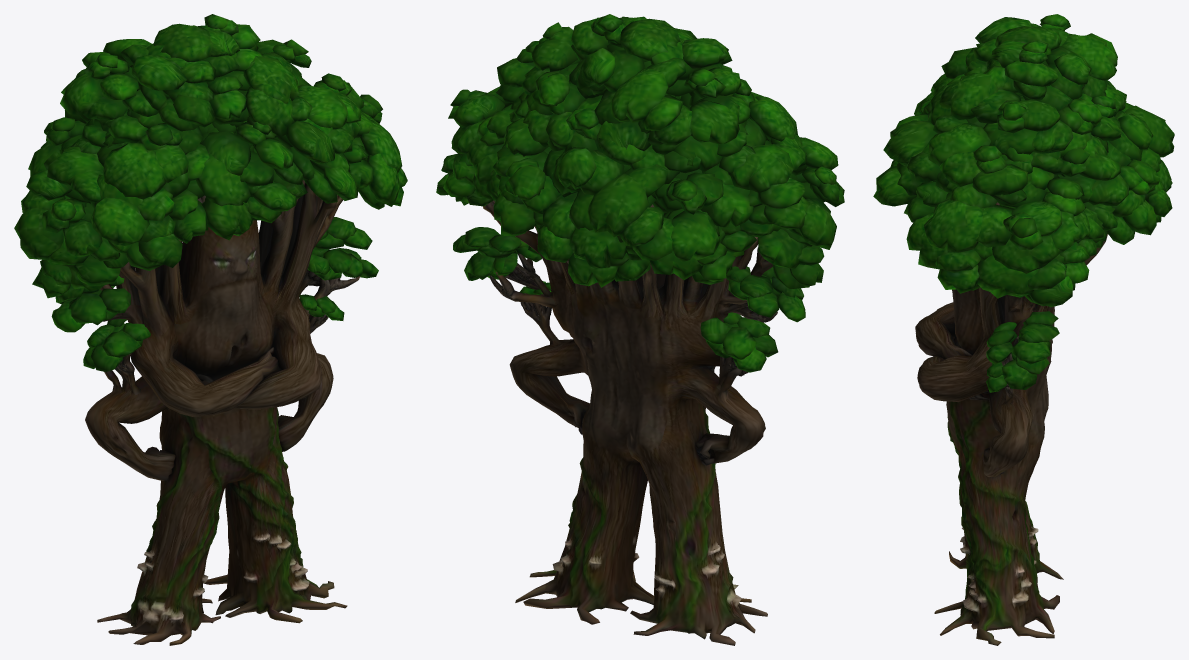
Rendered from MZ4250 - Treant Updated.glb.
3 views of the same model, side by side, from view 1: azimuth 30°, elevation 25°; view 2: azimuth 150°, elevation 25°; view 3: azimuth 270°, elevation 25° (orthographic). The views are drawn at different scales.
Visible parts, largest first — view 1: Treant Updated leaves.002; view 2: Treant Updated leaves.002; view 3: Treant Updated leaves.002.
Boxes of the visible parts, <box> form: Treant Updated leaves.002: <box>14,14,407,645</box>; Treant Updated leaves.002: <box>436,14,844,645</box>; Treant Updated leaves.002: <box>873,14,1174,645</box>.
Bounding box in the file's own units: 5.51 × 8.4 × 4.1.
2 materials, 2 textured.
